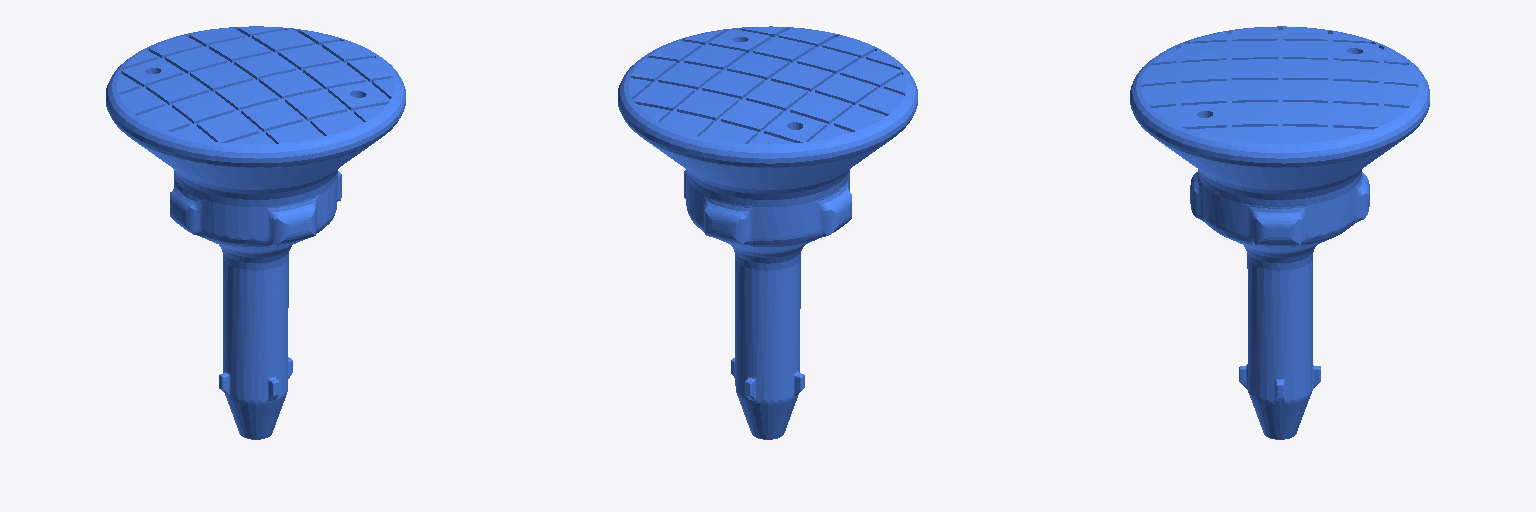
File: Verbinder.obj
The picture shows the model from 3 angles: view 1: azimuth 30°, elevation 25°; view 2: azimuth 150°, elevation 25°; view 3: azimuth 270°, elevation 25°; orthographic projection.
Parts seen in each view (by area): view 1: Volumenkörper1; view 2: Volumenkörper1; view 3: Volumenkörper1.
Boxes of the visible parts, x1=… form: Volumenkörper1: x1=106, y1=26, x2=405, y2=439; Volumenkörper1: x1=618, y1=26, x2=917, y2=439; Volumenkörper1: x1=1130, y1=26, x2=1429, y2=439.
Bounding box in the file's own units: 184 × 240 × 184.